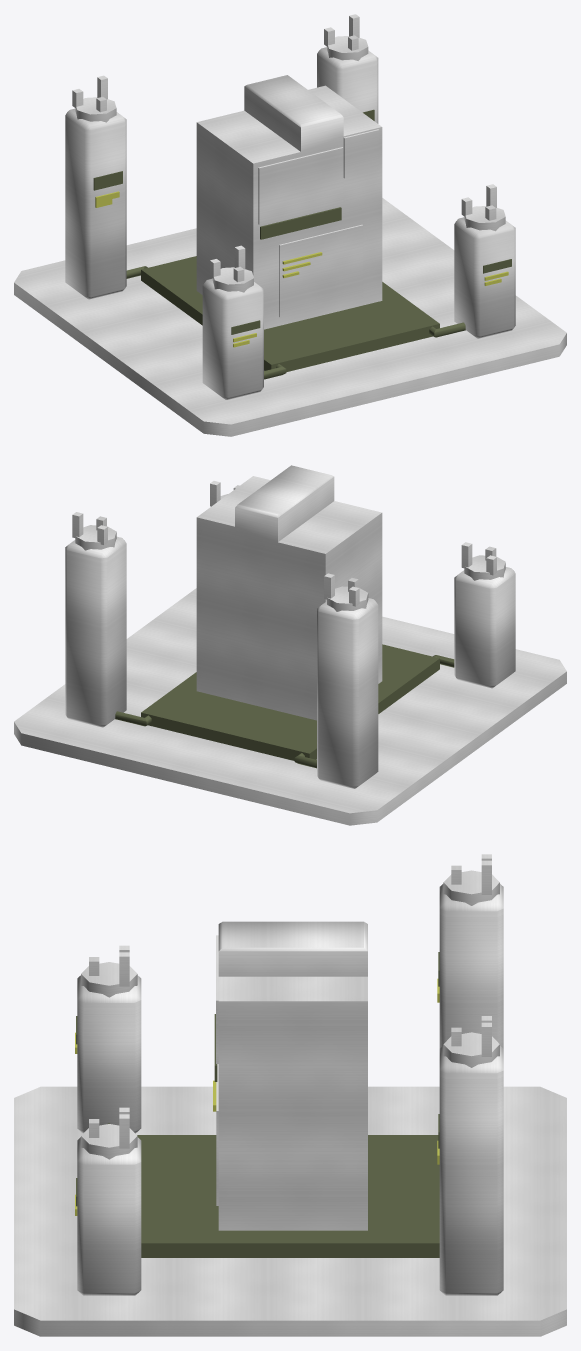
The model's file is psychic_suppressor.obj.
The picture shows the model from 3 angles, top to bottom: view 1: azimuth 30°, elevation 25°; view 2: azimuth 150°, elevation 25°; view 3: azimuth 270°, elevation 25°; orthographic projection. The views are drawn at different scales.
Visible parts, largest first — view 1: source_component_000, source_component_002, source_component_018, source_component_001, source_component_010, source_component_026, source_component_006, source_component_003, source_component_034, source_component_004, source_component_005, source_component_014 (+3 smaller); view 2: source_component_000, source_component_002, source_component_018, source_component_034, source_component_001, source_component_010, source_component_014, source_component_022, source_component_038; view 3: source_component_000, source_component_002, source_component_001, source_component_034, source_component_026, source_component_018, source_component_010, source_component_014, source_component_030, source_component_038, source_component_022.
Part boxes in pixels (bbox=[...]): source_component_000: bbox=[14, 198, 566, 436]; source_component_002: bbox=[196, 75, 382, 329]; source_component_018: bbox=[65, 108, 126, 299]; source_component_001: bbox=[141, 256, 439, 372]; source_component_010: bbox=[202, 278, 263, 399]; source_component_026: bbox=[454, 217, 515, 338]; source_component_006: bbox=[279, 224, 363, 317]; source_component_003: bbox=[258, 147, 343, 224]; source_component_034: bbox=[317, 47, 378, 123]; source_component_004: bbox=[343, 129, 379, 178]; source_component_005: bbox=[260, 207, 341, 239]; source_component_014: bbox=[212, 267, 253, 292]; source_component_000: bbox=[14, 588, 566, 825]; source_component_002: bbox=[196, 465, 382, 720]; source_component_018: bbox=[317, 598, 378, 788]; source_component_034: bbox=[65, 536, 126, 727]; source_component_001: bbox=[141, 644, 439, 760]; source_component_010: bbox=[454, 567, 515, 688]; source_component_014: bbox=[464, 555, 505, 580]; source_component_022: bbox=[327, 586, 368, 611]; source_component_038: bbox=[75, 525, 116, 550]; source_component_000: bbox=[14, 1086, 566, 1336]; source_component_002: bbox=[218, 921, 367, 1230]; source_component_001: bbox=[137, 1135, 439, 1257]; source_component_034: bbox=[439, 1046, 503, 1295]; source_component_026: bbox=[77, 1137, 141, 1295]; source_component_018: bbox=[439, 884, 503, 1048]; source_component_010: bbox=[77, 975, 141, 1133]; source_component_014: bbox=[81, 962, 137, 997]; source_component_030: bbox=[81, 1124, 137, 1159]; source_component_038: bbox=[443, 1032, 499, 1067]; source_component_022: bbox=[443, 870, 499, 905].
Bounding box in the file's own units: 5.86 × 3.37 × 5.86.
